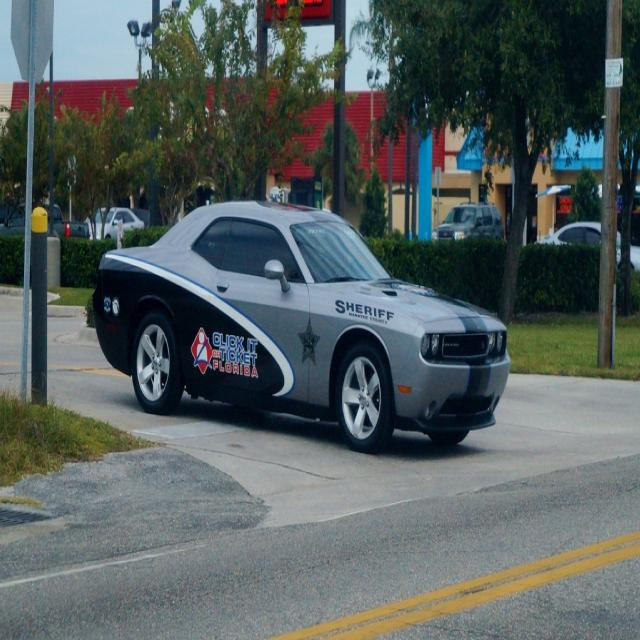car: (88, 189, 513, 413)
